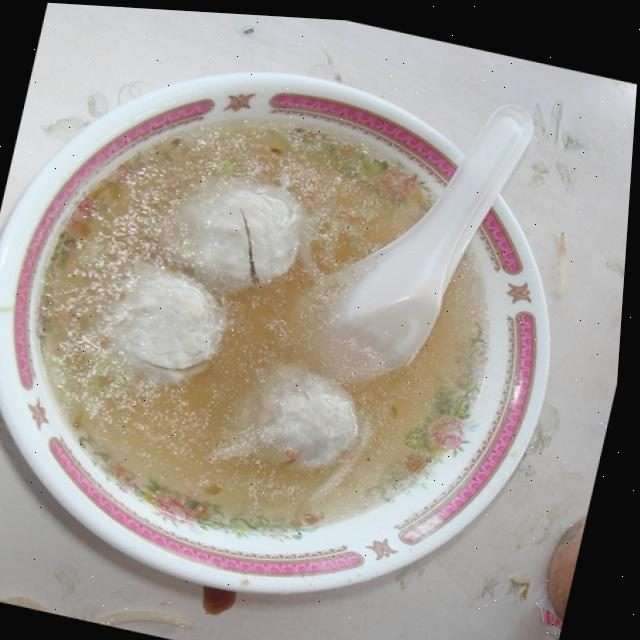熟制海鲜: (0, 8, 629, 640)
